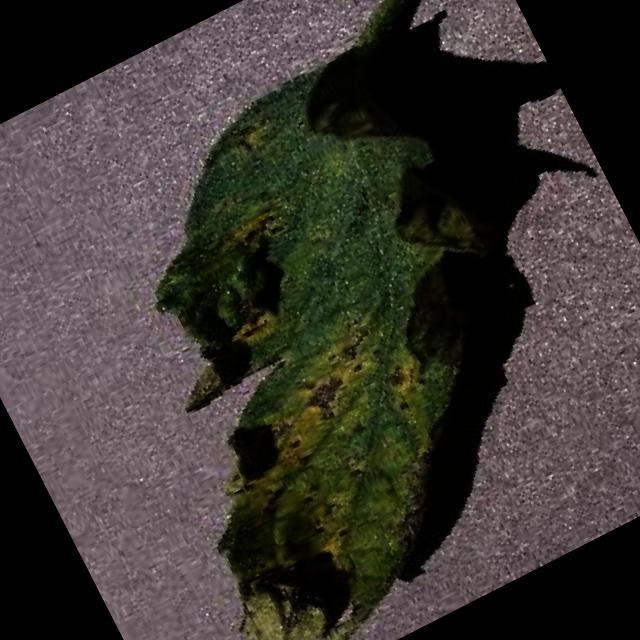Tomato Septoria spot leaf: (25, 34, 619, 640)
